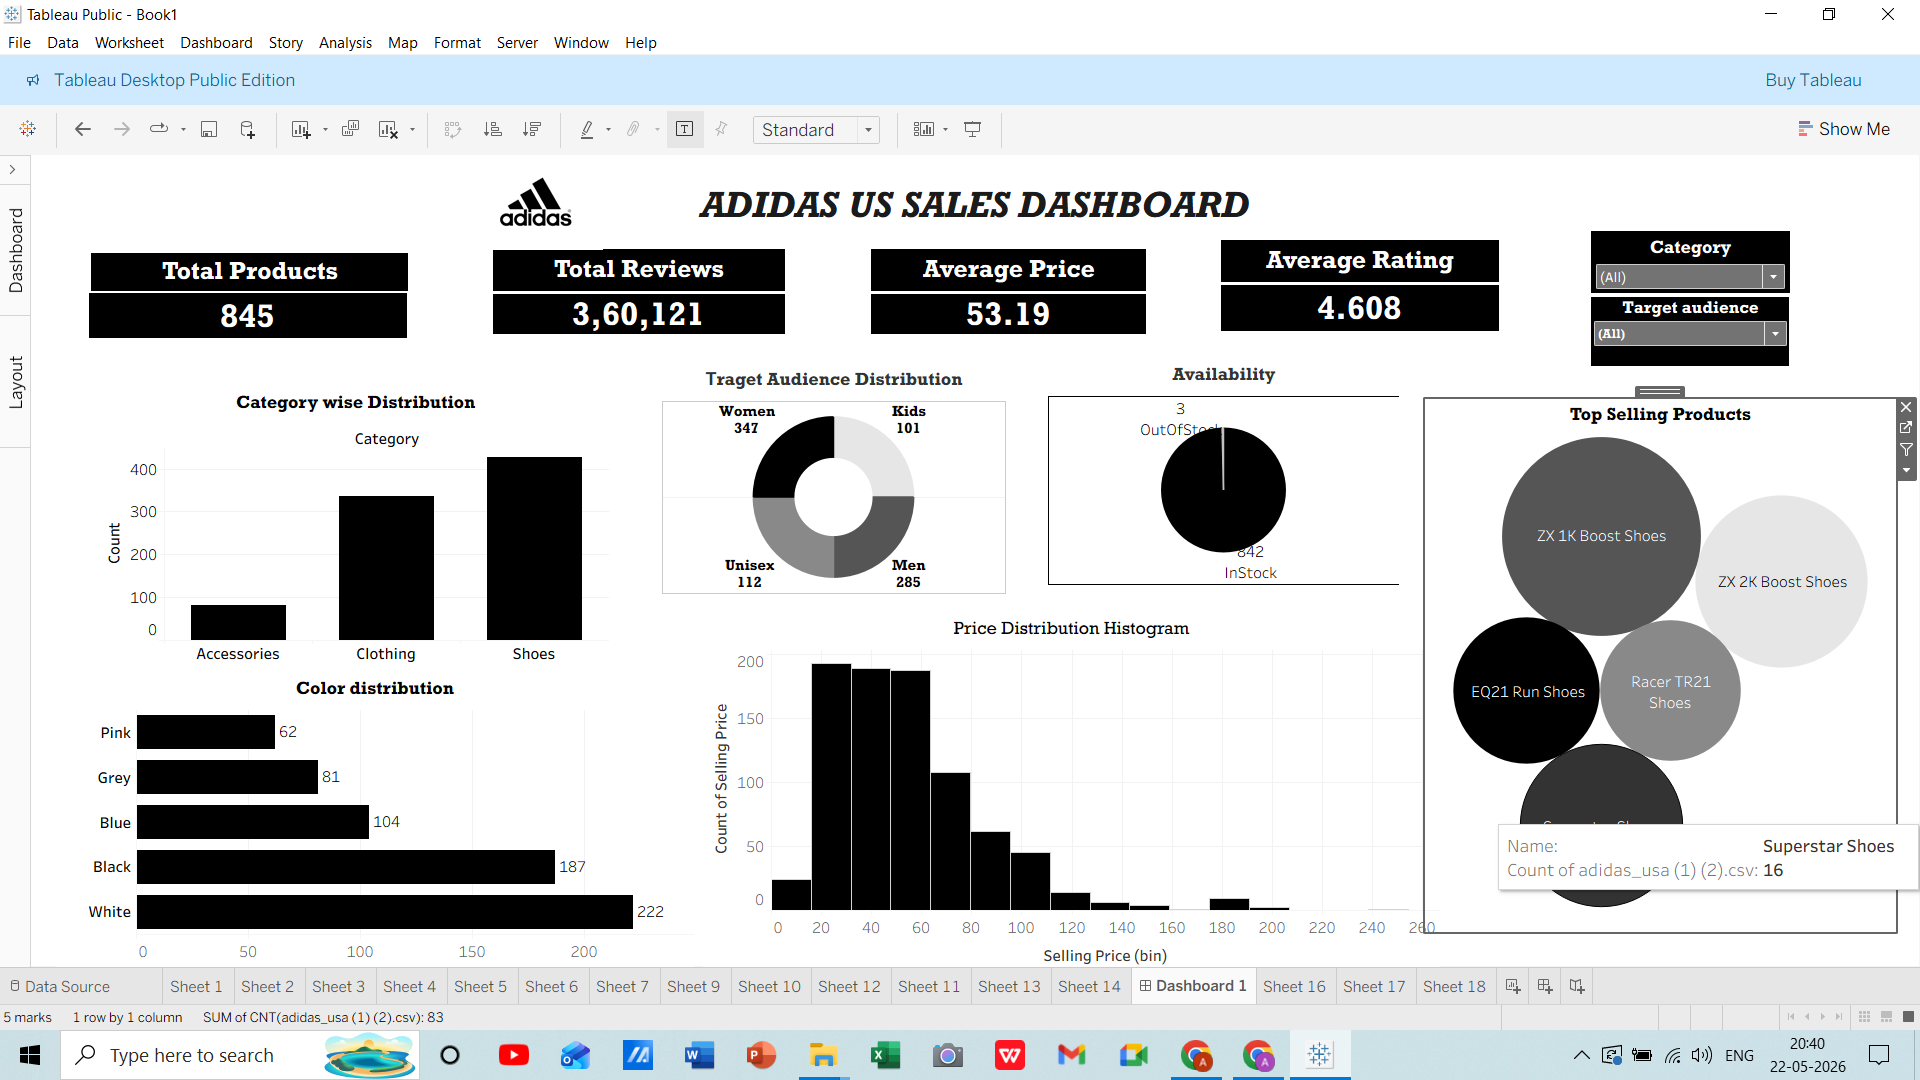

The page's visual inventory and layout, read from the dashboard file:
{"tool":"tableau","page":{"name":"Dashboard 1","canvas":[1000,1000],"units":"permille","ordinal":0},"visuals":[{"type":"text","box":[153.6,24.7,692.3,71.5]},{"type":"filter","title":"Sheet 6","param":"[federated.0upfgwe06ncn1i15495vw0kftlwo].[none:category:nk]","box":[826.3,93.6,105.3,76.4]},{"type":"worksheet","title":"Sheet 9","mark":"Automatic","box":[630.3,104.7,147.4,112.1]},{"type":"worksheet","title":"Sheet 12","mark":"Automatic","box":[244.7,115.8,154.6,133]},{"type":"worksheet","title":"Sheet 10","mark":"Automatic","box":[444.7,115.8,146.1,108.4]},{"type":"worksheet","title":"Sheet 16","mark":"Automatic","box":[30.9,120.7,169.1,254.9]},{"type":"filter","title":"Sheet 10","param":"[federated.0upfgwe06ncn1i15495vw0kftlwo].[none:Calculation_1277398628347904:nk]","box":[826.2,174.8,105.2,85.5]},{"type":"worksheet","title":"Sheet 6","mark":"Pie","box":[538.5,251.6,186.3,279.2]},{"type":"worksheet","title":"Sheet 3","mark":"Pie","rows":["Calculation_1277398632374280","Calculation_1277398632374280"],"box":[334.3,257.9,182,283]},{"type":"worksheet","title":"Sheet 1","mark":"Automatic","rows":["adidas_usa (1) (2).csv_D4D01DFEE4F34AC39AD78EC0A5DAA468"],"cols":["category"],"box":[33.7,274.2,272.7,356]},{"type":"worksheet","title":"Sheet 18","mark":"Circle","box":[738.4,300.6,249.4,657.9]}]}

Visuals, with their boxes on the dashboard's canvas, which has no fixed pixel size, in thousandths of its width and height (x1, y1, x2, y2). These are canvas units, not pixel positions in the 1920x1080 screenshot, which may show the page scaled, cropped or inside an application window:
text: [154,25,846,96]
"Sheet 6" filter: [826,94,932,170]
"Sheet 9" worksheet: [630,105,778,217]
"Sheet 12" worksheet: [245,116,399,249]
"Sheet 10" worksheet: [445,116,591,224]
"Sheet 16" worksheet: [31,121,200,376]
"Sheet 10" filter: [826,175,931,260]
"Sheet 6" worksheet (Pie marks): [538,252,725,531]
"Sheet 3" worksheet (Pie marks): [334,258,516,541]
"Sheet 1" worksheet: [34,274,306,630]
"Sheet 18" worksheet (Circle marks): [738,301,988,958]
